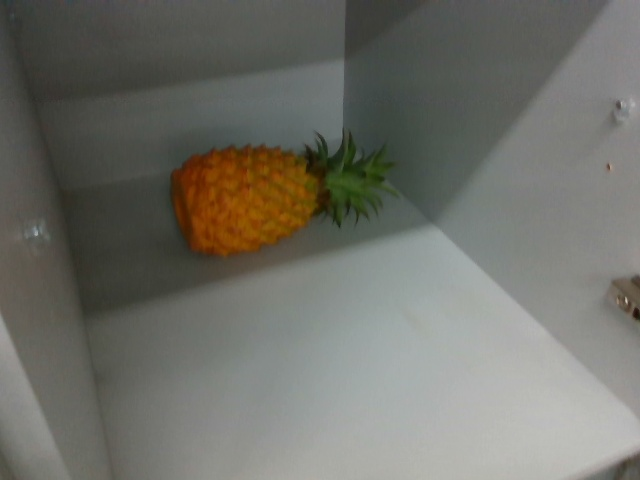pineapple: (164, 138, 394, 254)
